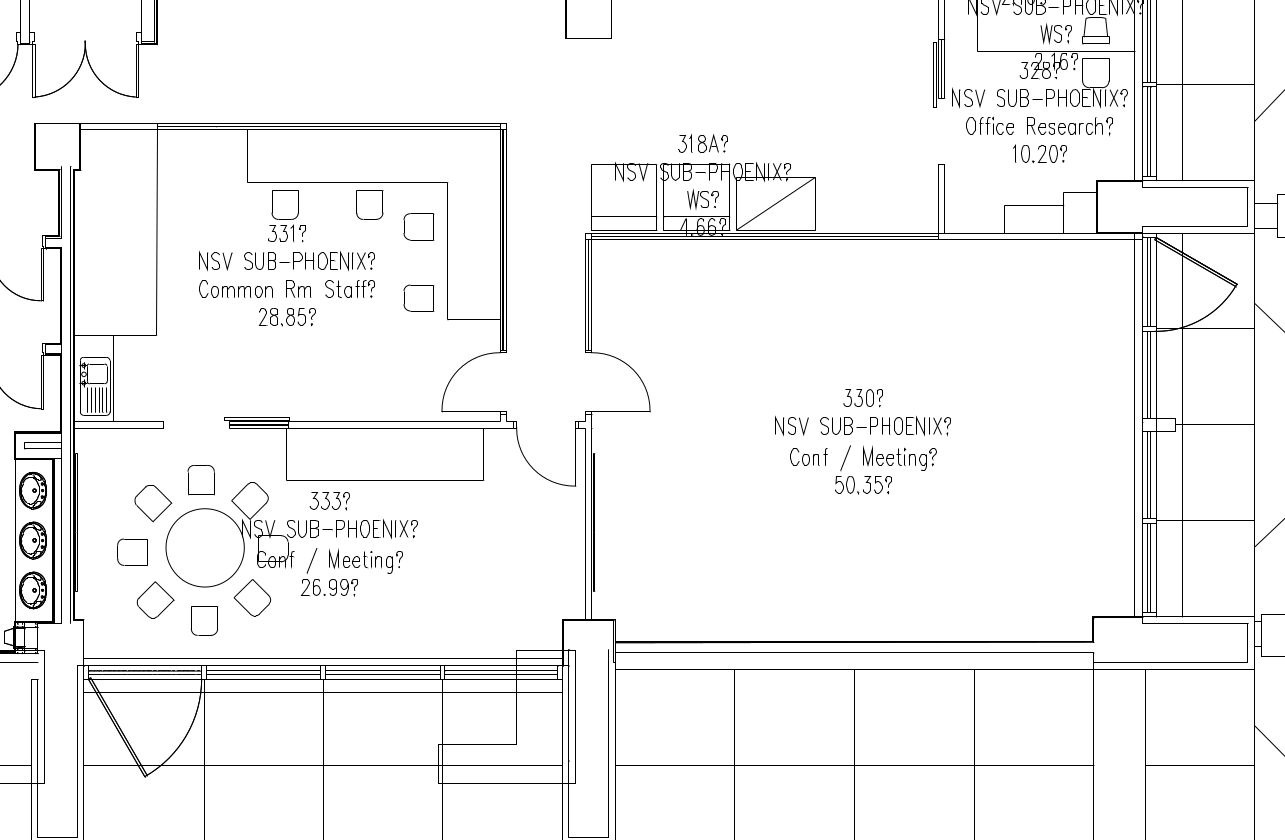door: (24, 41, 144, 108), (435, 347, 509, 415), (590, 348, 664, 416), (505, 428, 579, 496), (1, 355, 48, 411), (1, 252, 48, 308)
